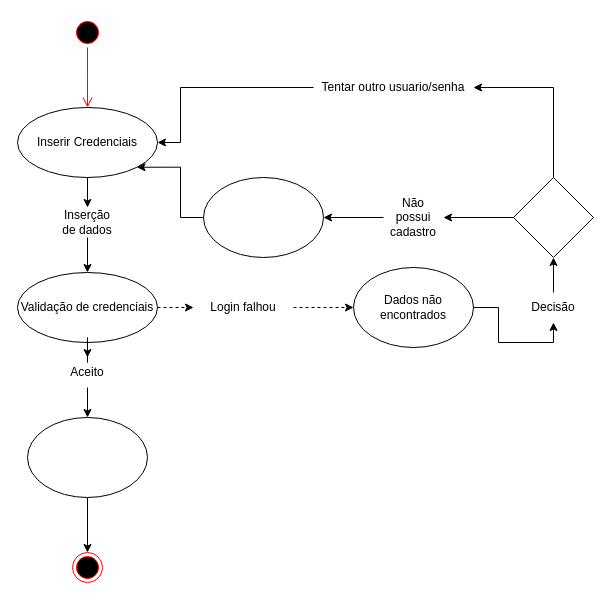
Image size: 611x600. Some labels were removed from this diagram. The shapes that lost their labels are listed below. From the top down, each one's centre as x and y in pixels, then its label:
At point (263, 217): "Realizar cadastro".
At point (87, 457): "Login bem-sucedido".
